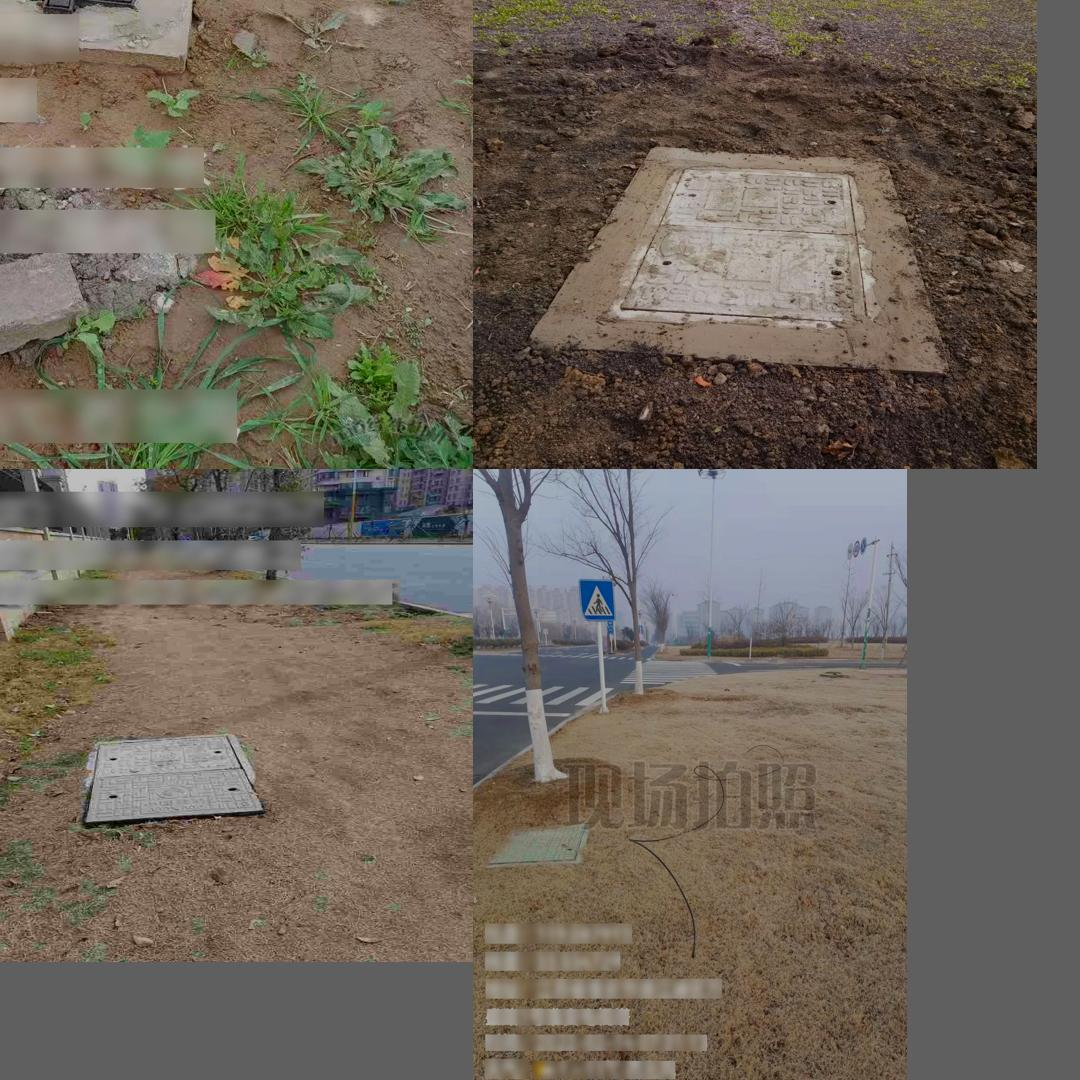good: (605, 164, 862, 325), (78, 733, 267, 824), (0, 0, 179, 28), (485, 821, 588, 867)
